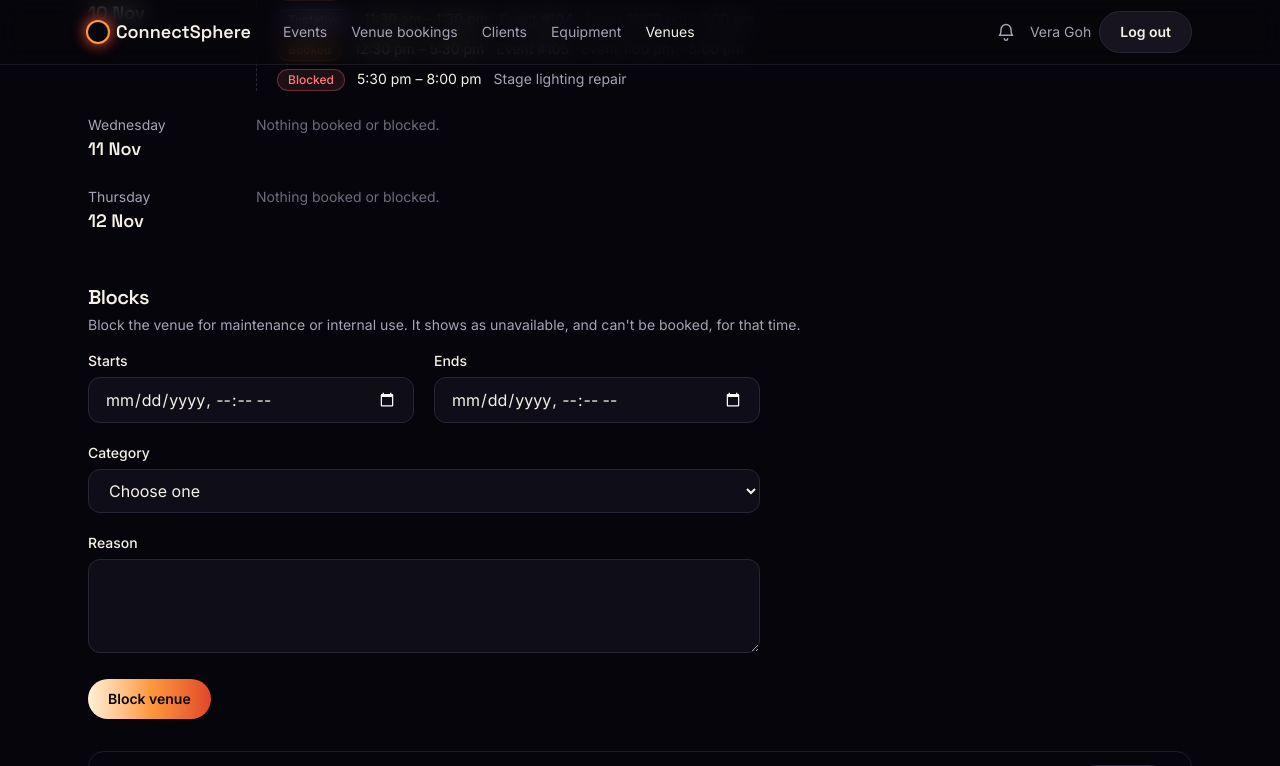
Test case: SCRUM-34 blocking a venue (AC1) › shows the backend message when the end is before the start
(page scrolled)
Type "2026-11-12T10:00" into the field labelled "Starts" at coordinates (251, 400), box [88,377,414,423]
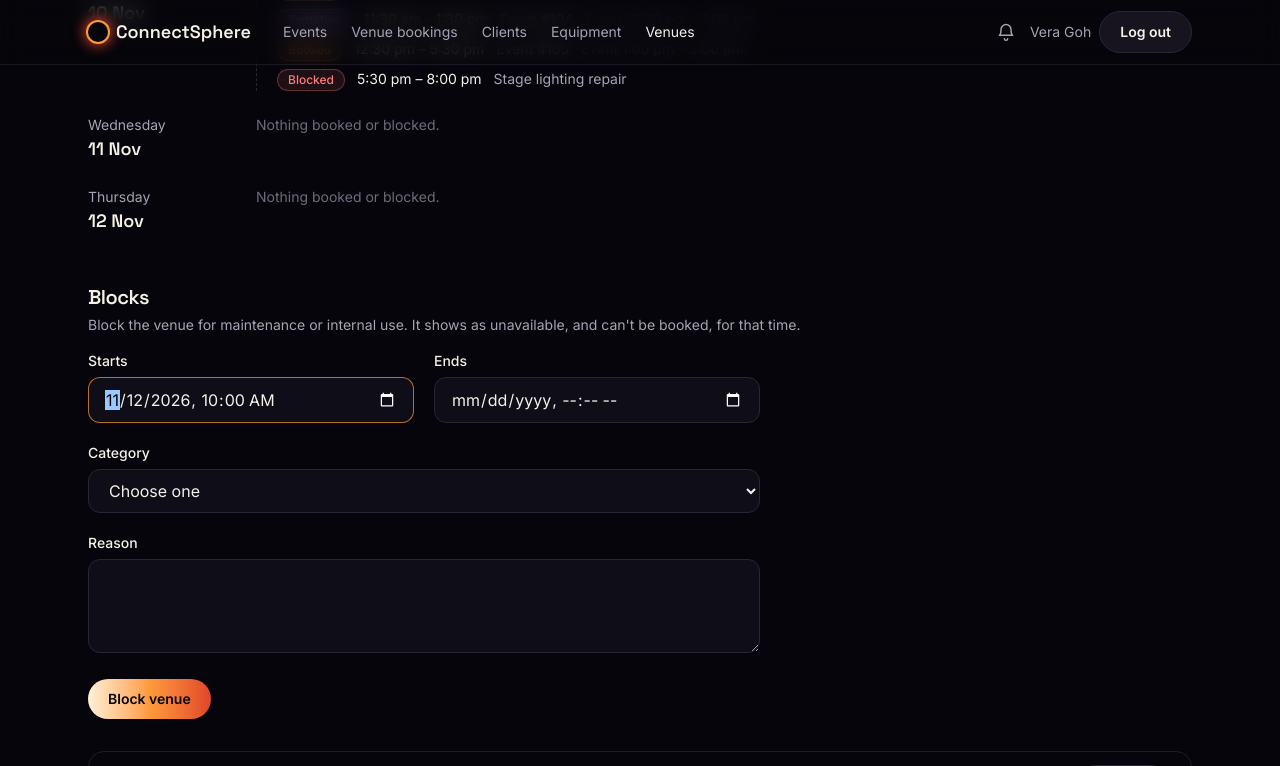
Type "2026-11-12T09:00" into the field labelled "Ends" at coordinates (597, 400), box [434,377,760,423]
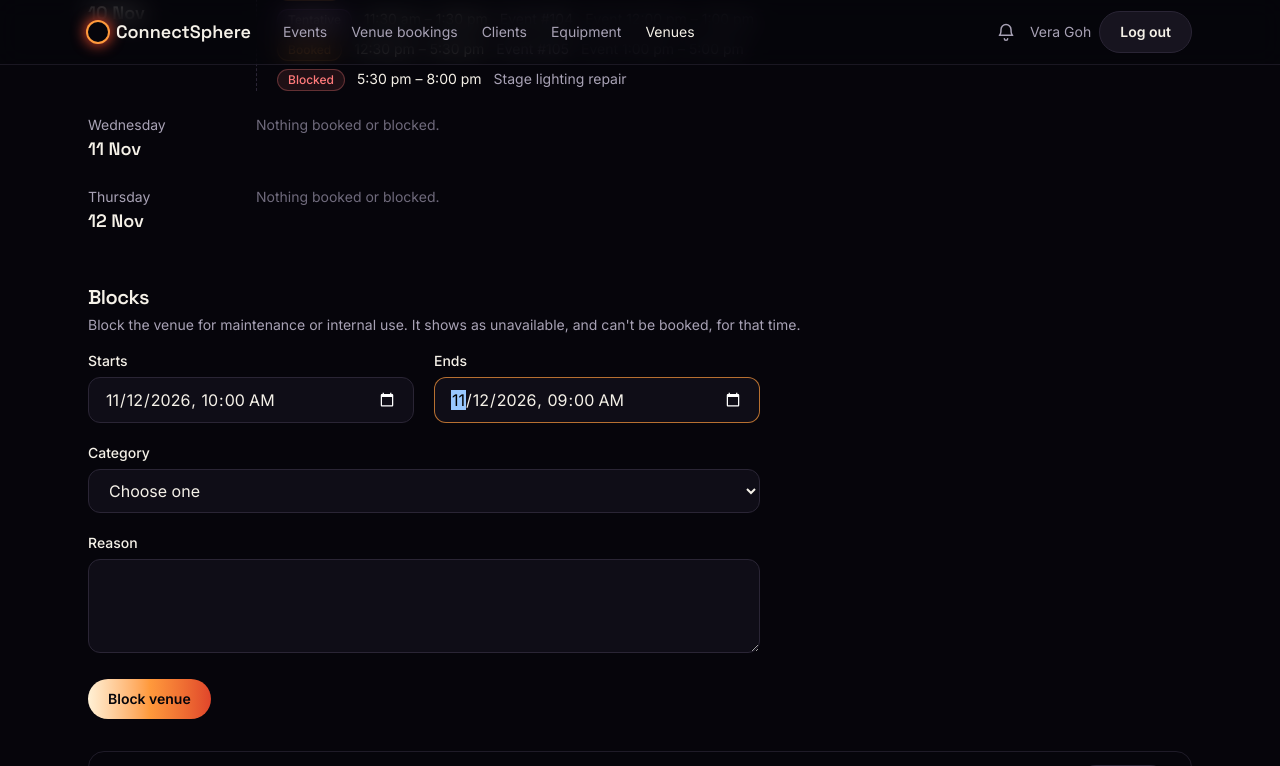
Select "Safety concern" in the dropdown labelled "Category" at coordinates (424, 491), box [88,469,760,513]
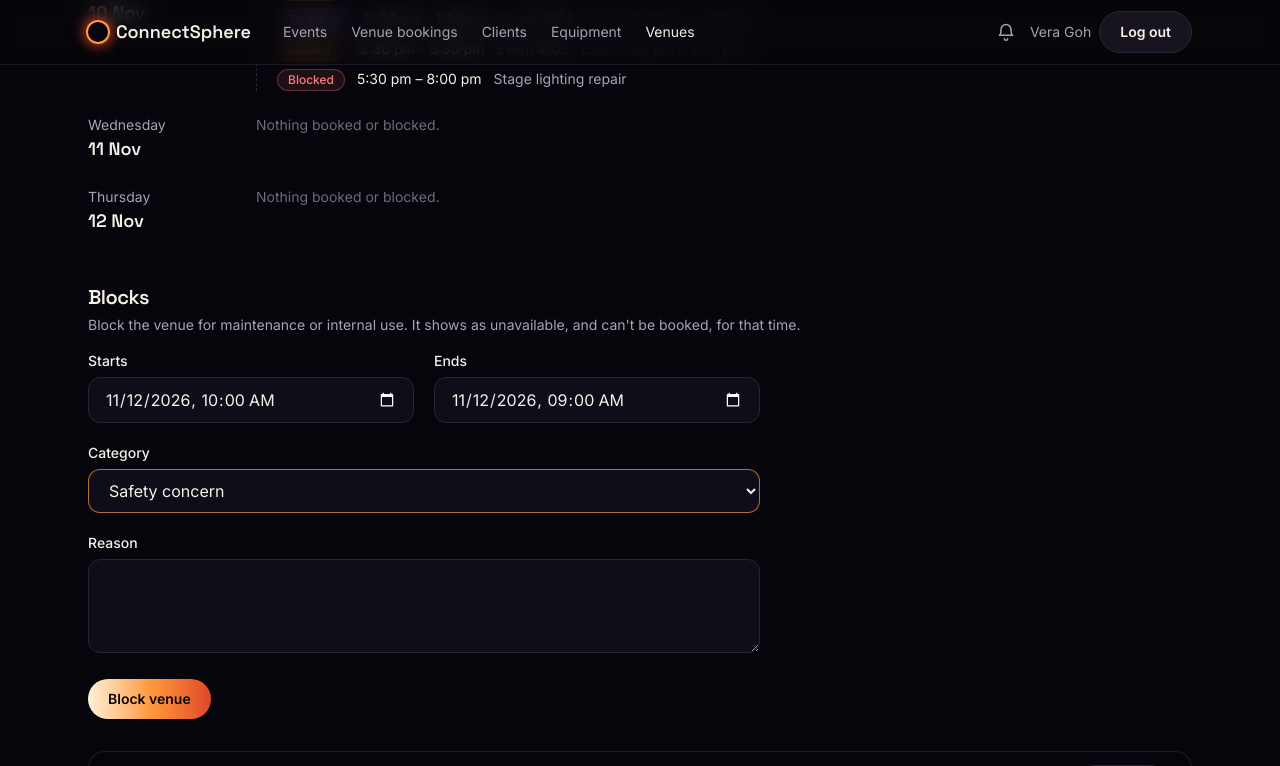
Type "Typo" into the text box labelled "Reason" at coordinates (424, 606), box [88,559,760,653]
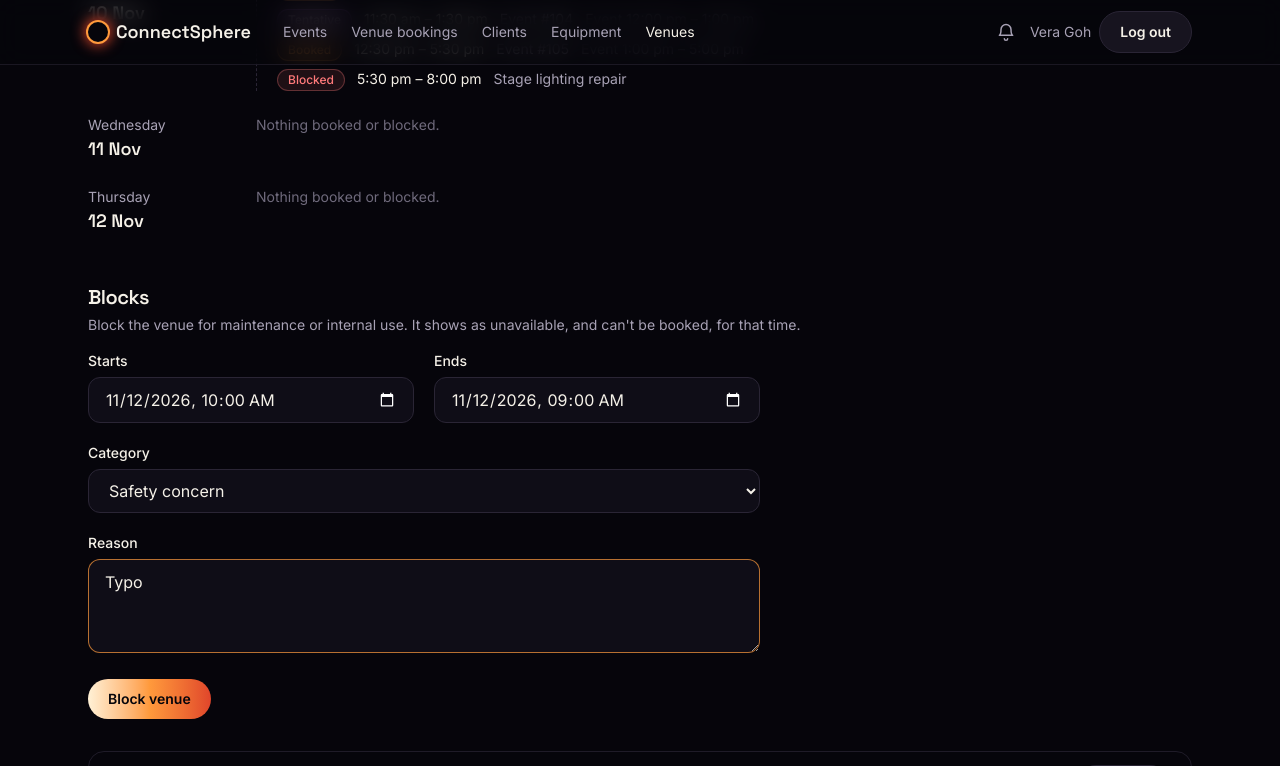
Click the button "Block venue" at coordinates (149, 699), box [88,679,211,719]
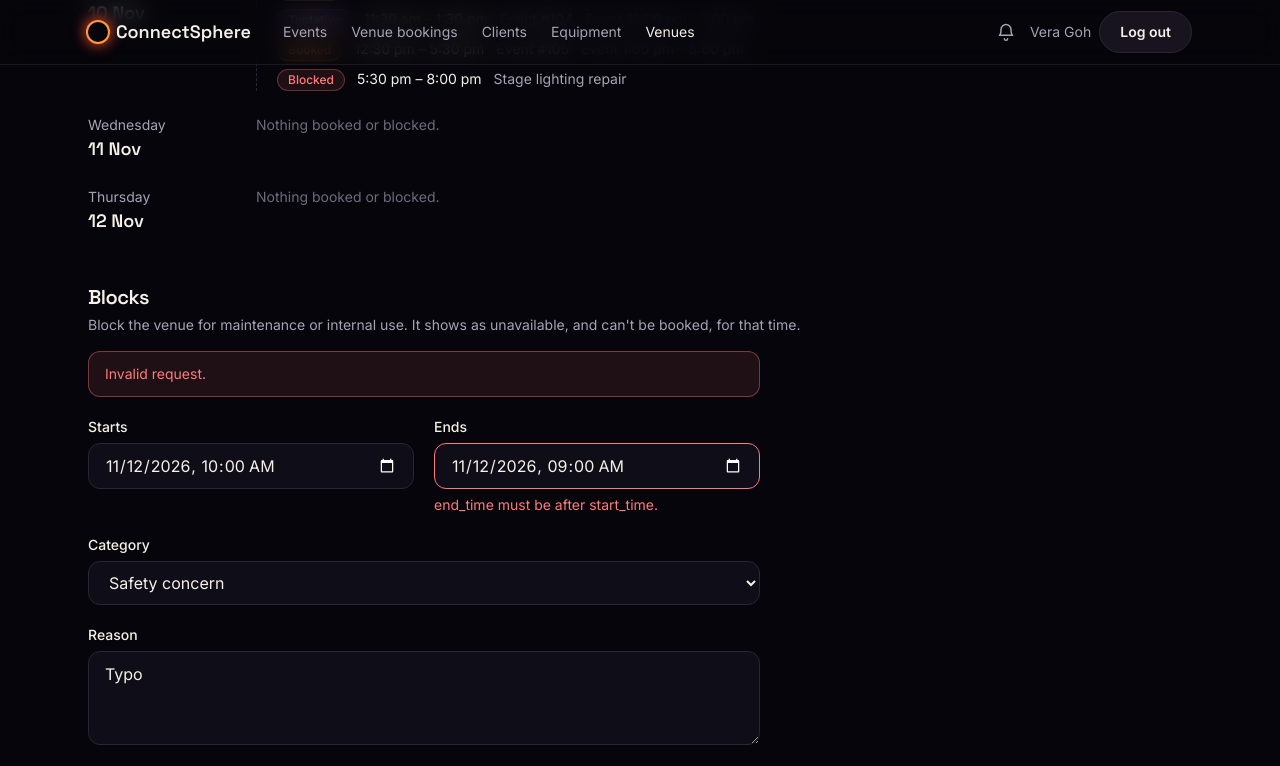
Expected: the list item "end_time must be after start_time." is shown, [434,496,658,513]
